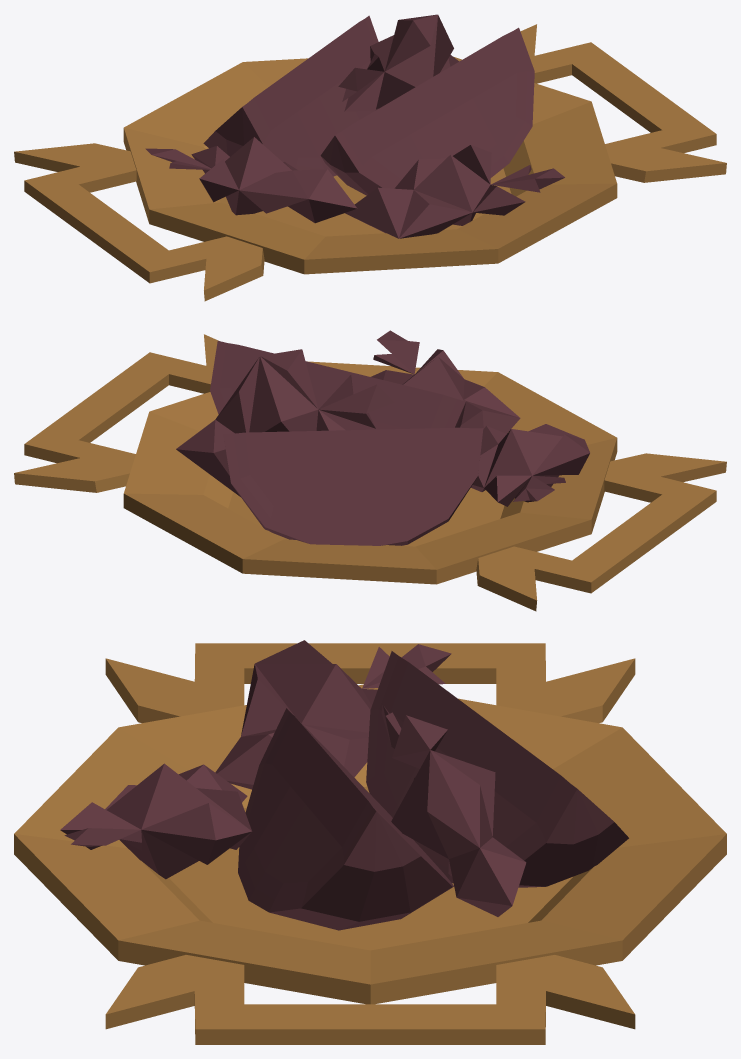
File: empire-plate-fruit-empire.glb
3 renders of one model, top to bottom at view 1: azimuth 30°, elevation 25°; view 2: azimuth 150°, elevation 25°; view 3: azimuth 270°, elevation 25°, orthographic. The views are drawn at different scales.
Visible parts, largest first — view 1: SM_Plate_Fruit_Empire; view 2: SM_Plate_Fruit_Empire; view 3: SM_Plate_Fruit_Empire.
Part boxes in pixels (box(x1,y1,x2,y2)): SM_Plate_Fruit_Empire: box(14, 14, 726, 301); SM_Plate_Fruit_Empire: box(14, 330, 726, 611); SM_Plate_Fruit_Empire: box(14, 640, 726, 1044).
Bounding box in the file's own units: 0.9707 × 0.2486 × 0.7576.
